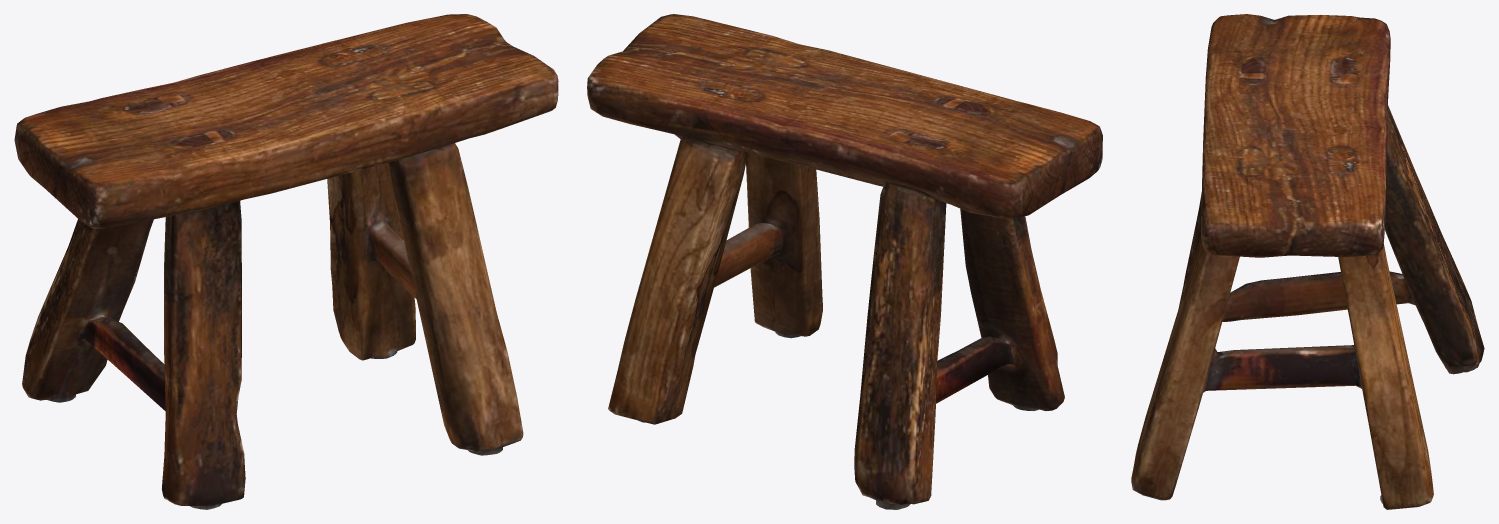
File: wooden_stool_02.glb
The picture shows the model from 3 angles, left to right: view 1: azimuth 30°, elevation 25°; view 2: azimuth 150°, elevation 25°; view 3: azimuth 270°, elevation 25°; orthographic projection. The views are drawn at different scales.
Parts seen in each view (by area): view 1: wooden_stool_02; view 2: wooden_stool_02; view 3: wooden_stool_02.
Boxes of the visible parts, box(x1,y1,x2,y2) form: wooden_stool_02: box(14, 14, 558, 509); wooden_stool_02: box(587, 14, 1102, 509); wooden_stool_02: box(1131, 14, 1484, 509).
Bounding box in the file's own units: 0.2648 × 0.1818 × 0.1831.
1 material, 1 textured.
